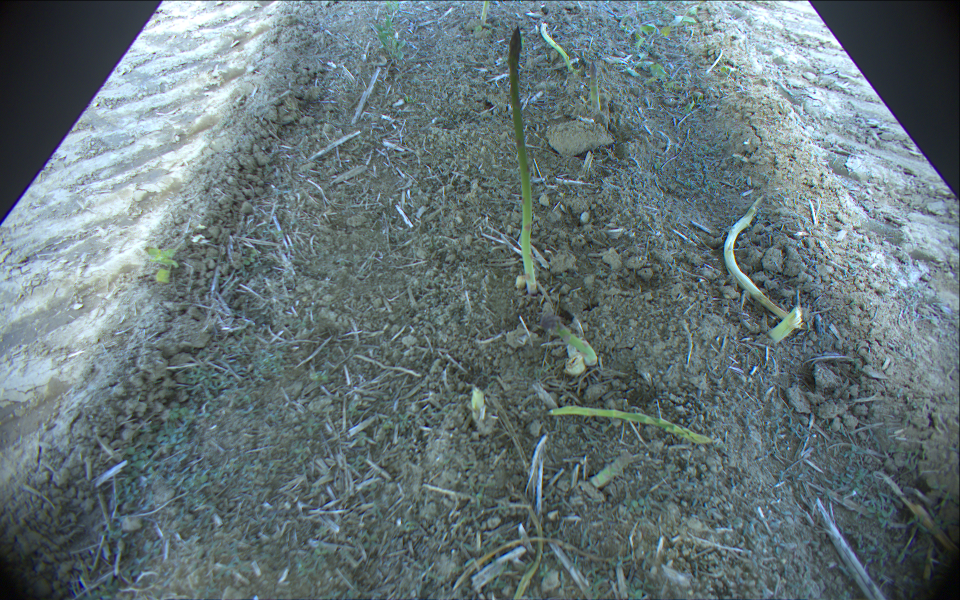aspa: (723, 195, 804, 330), (508, 21, 540, 295), (546, 403, 715, 445), (541, 311, 598, 368), (540, 22, 576, 85), (768, 306, 803, 340), (588, 61, 604, 119), (472, 387, 484, 421), (479, 1, 491, 22)
